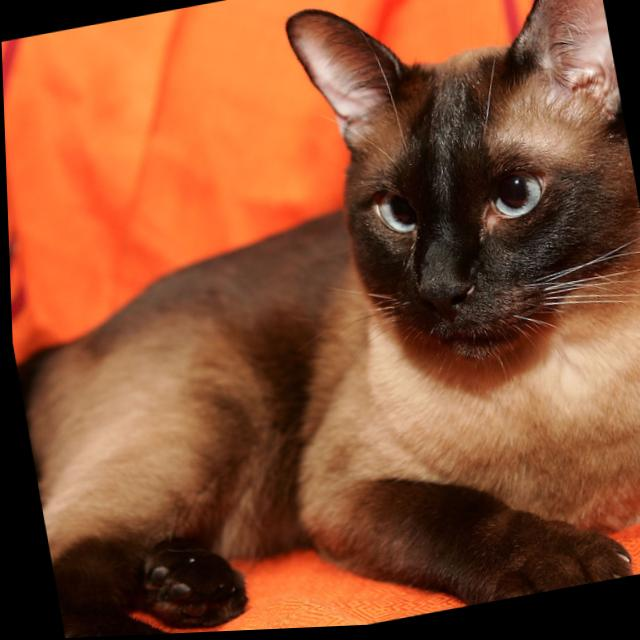animals: (298, 0, 640, 335)
